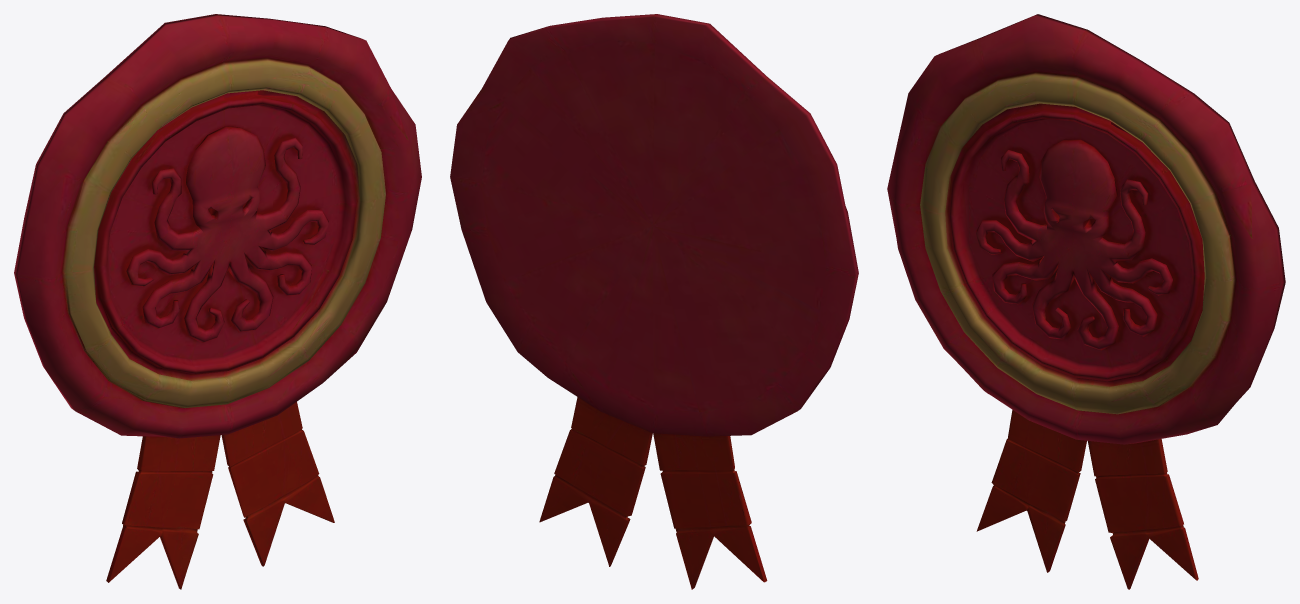
The model's file is seal.glb.
The picture shows the model from 3 angles, left to right: view 1: azimuth 30°, elevation 25°; view 2: azimuth 150°, elevation 25°; view 3: azimuth 330°, elevation 25°; orthographic projection. The views are drawn at different scales.
Parts seen in each view (by area): view 1: geometry_0; view 2: geometry_0; view 3: geometry_0.
Part boxes in pixels (<box>): geometry_0: <box>14,14,421,589</box>; geometry_0: <box>450,14,858,589</box>; geometry_0: <box>887,14,1285,589</box>.
Bounding box in the file's own units: 0.7463 × 1 × 0.0513.
1 material, 1 textured.
